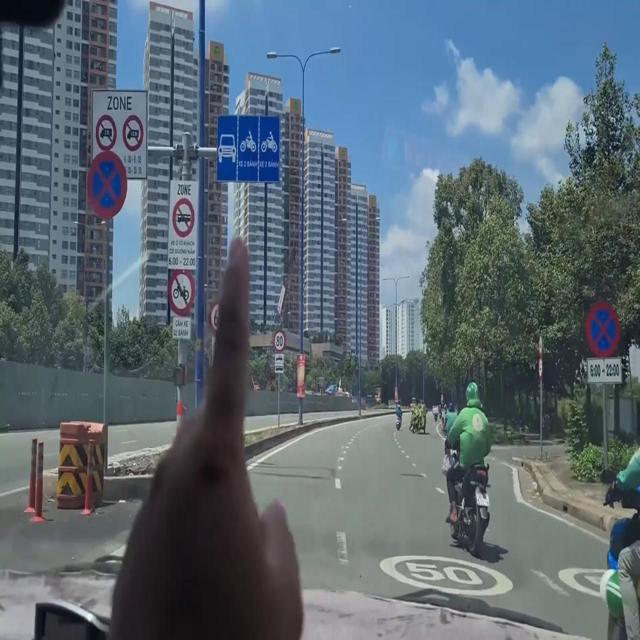Biển phụ: (170, 311, 194, 343), (274, 351, 283, 374)
Cấm các phương tiện hoạt động trong khung giờ cố định: (89, 87, 151, 181), (169, 181, 200, 270)
Cấm dừng - Cấm đỗ: (78, 135, 128, 223)
Cấm xe máy: (166, 267, 195, 318)
Giới hạn tốc độ: 80Km/h: (272, 326, 285, 351)
Làn đường cho từng xe: (211, 103, 292, 187)
